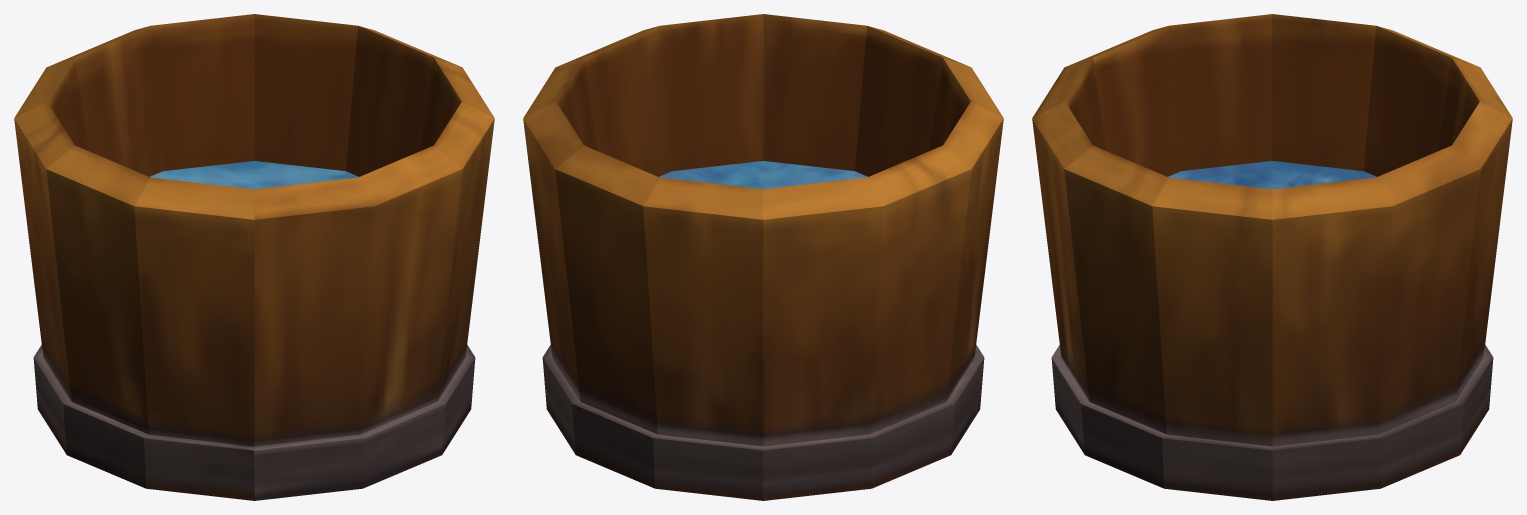
File: barrel_1.fbx
3 views of the same model, side by side, from view 1: azimuth 30°, elevation 25°; view 2: azimuth 150°, elevation 25°; view 3: azimuth 270°, elevation 25° (orthographic).
Visible parts, largest first — view 1: barrel_1; view 2: barrel_1; view 3: barrel_1.
Boxes of the visible parts, x1,y1,x2,y2 form: barrel_1: (14, 14, 494, 500); barrel_1: (523, 14, 1003, 500); barrel_1: (1032, 14, 1512, 500).
Bounding box in the file's own units: 1.26 × 0.8884 × 1.26.
